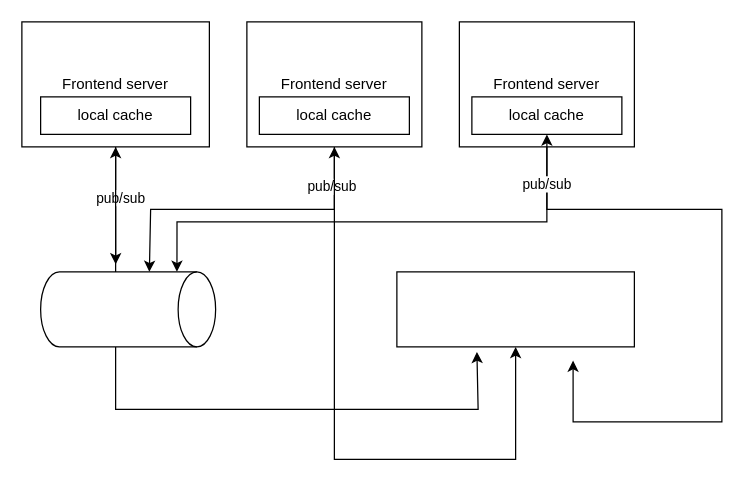
The diagram is 754 pixels wide and 491 high, and some of its shapes have lost their labels. Here are the shapes that lost their labels. From the top down, the centre of each, then its label:
At point 127,309: "Redis".
At point 515,309: "Search cluster".
